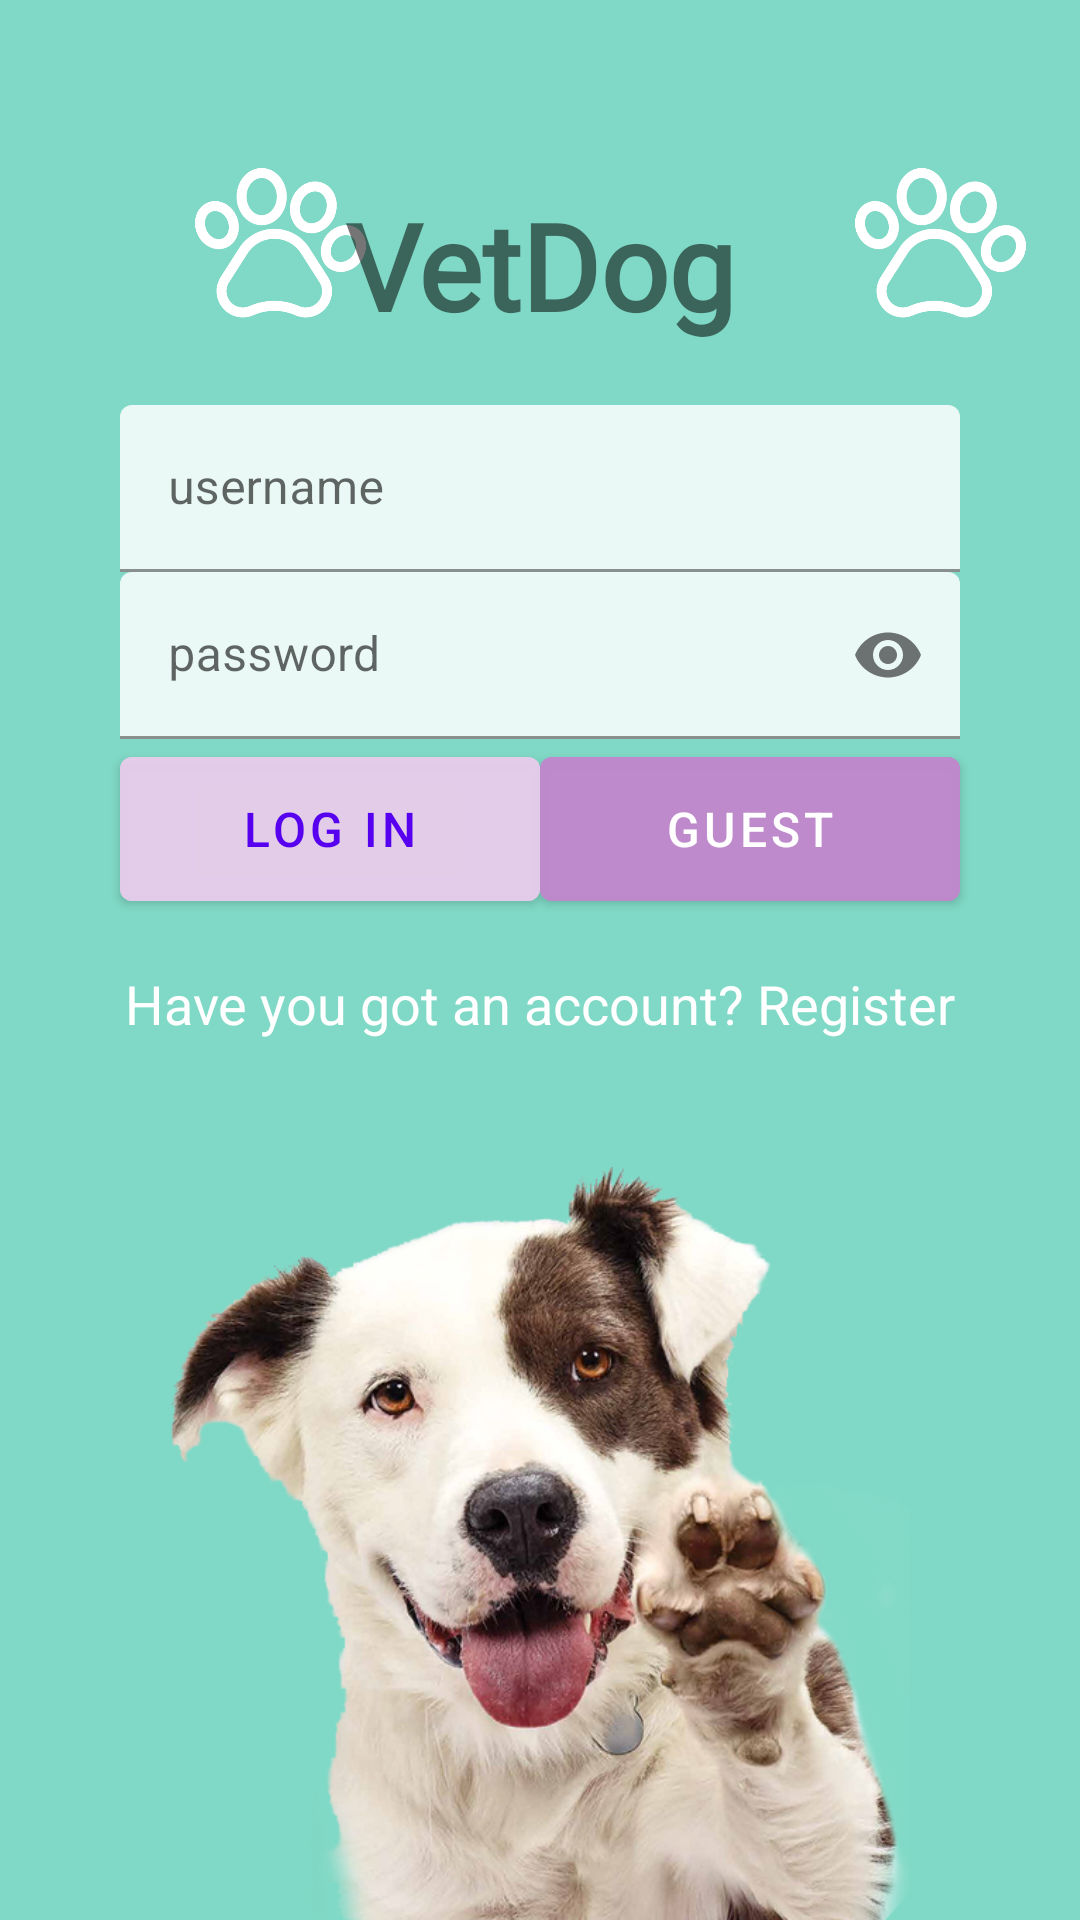

Icons on this 1080*1920 Android screen, each with the point to tap as (x=x, y=y):
huella: (x=266, y=243), (x=940, y=243)
